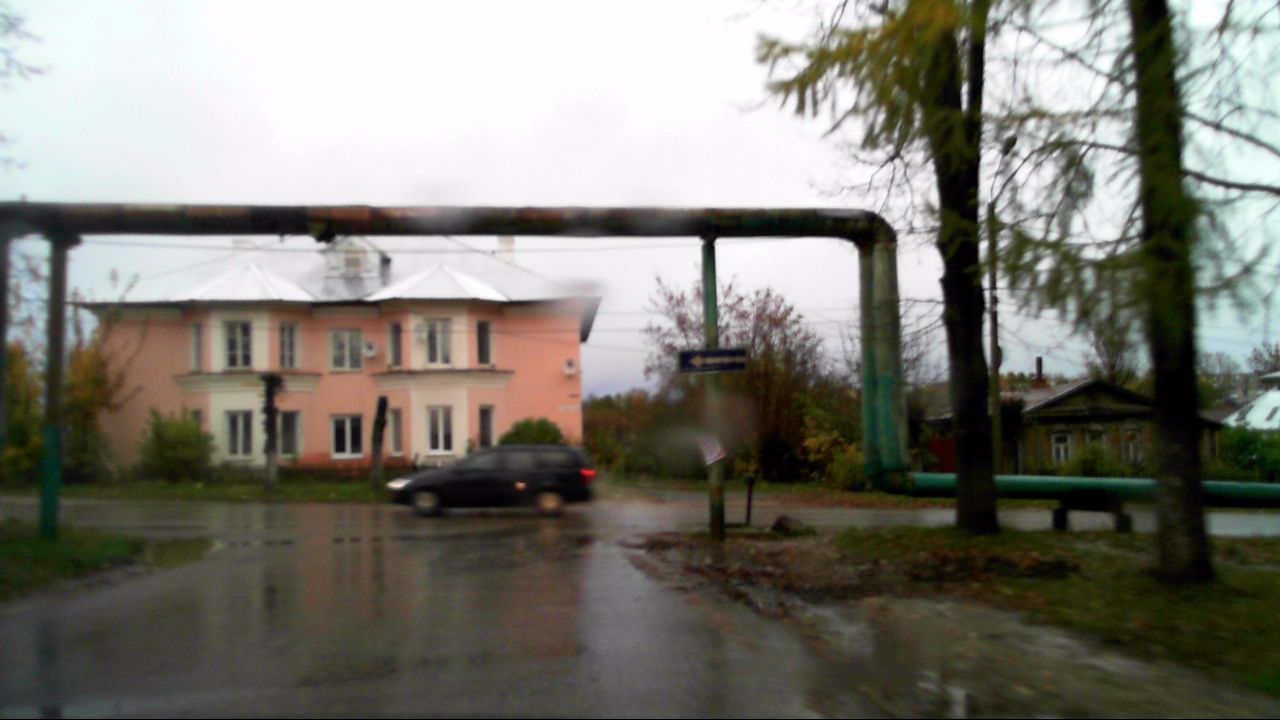One-Way Traffic: (680, 350, 747, 371)
